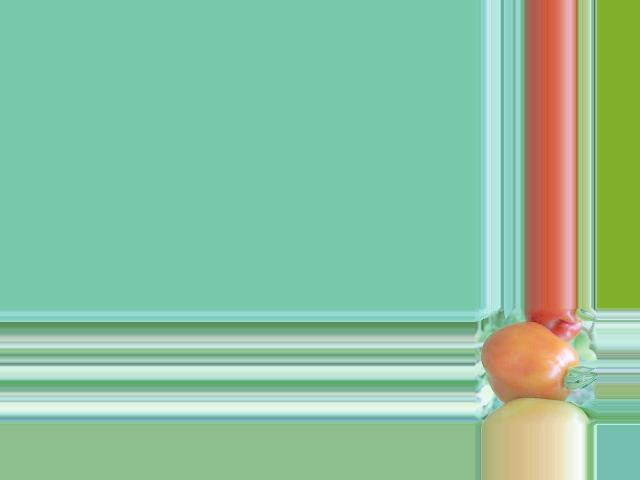tomato: (481, 322, 579, 399)
